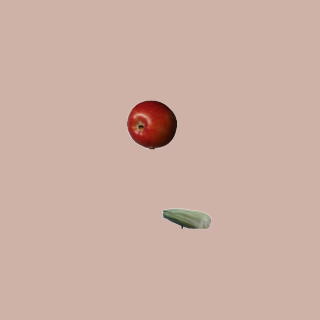Apple Braeburn: (126, 99, 176, 149)
Corn Husk: (161, 193, 211, 243)
